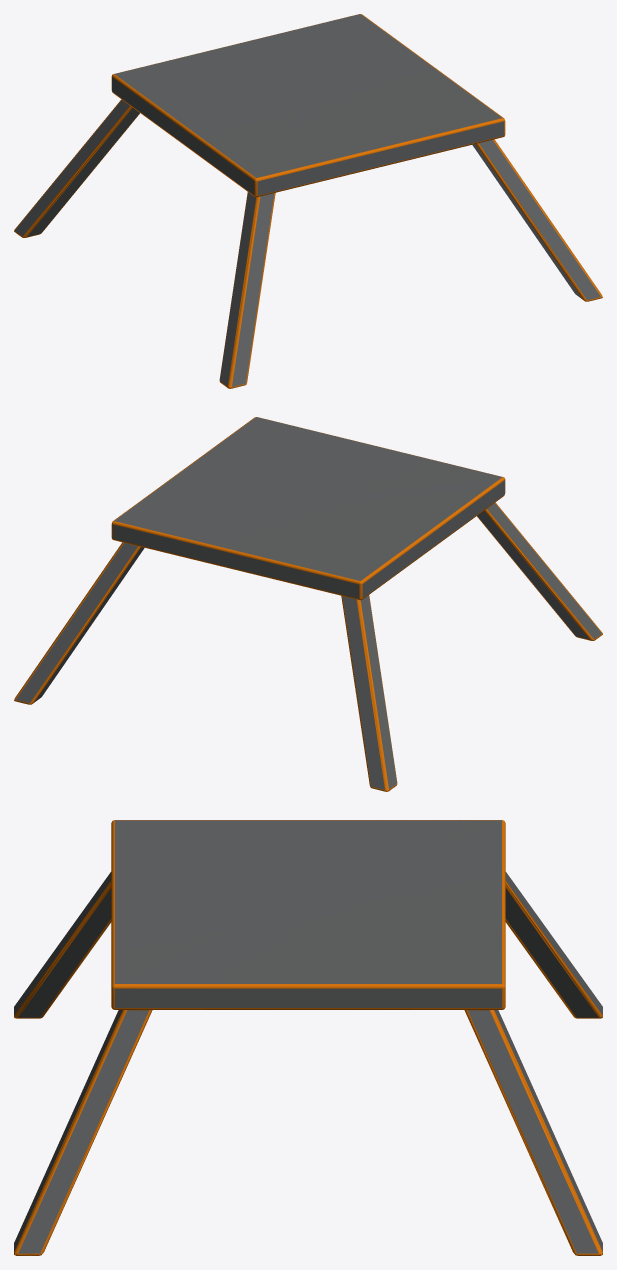
File: stand.fbx
3 renders of one model, top to bottom at view 1: azimuth 30°, elevation 25°; view 2: azimuth 150°, elevation 25°; view 3: azimuth 270°, elevation 25°, orthographic. The views are drawn at different scales.
Parts seen in each view (by area): view 1: stand_LOD0, stand_col; view 2: stand_LOD0, stand_col; view 3: stand_LOD0, stand_col.
Boxes of the visible parts, x1,y1,x2,y2 form: stand_LOD0: (14,14,602,388); stand_col: (113,84,503,194); stand_LOD0: (14,417,602,791); stand_col: (113,480,504,597); stand_LOD0: (14,820,602,1255); stand_col: (115,820,501,1010).
Size of what is drawn, in the model's own units: 125 by 54.11 by 125.
